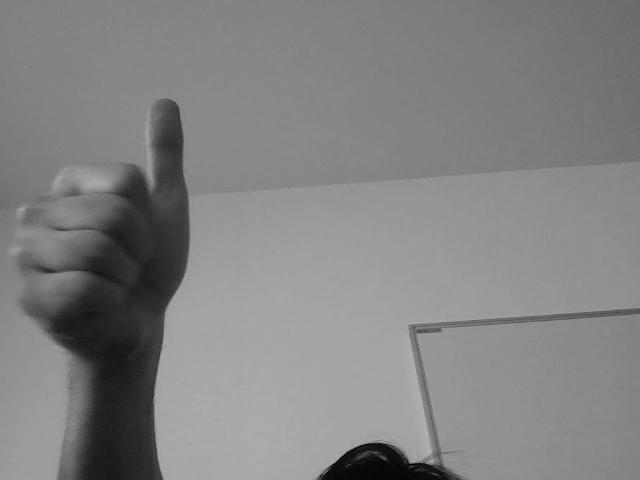good: (19, 102, 281, 374)
